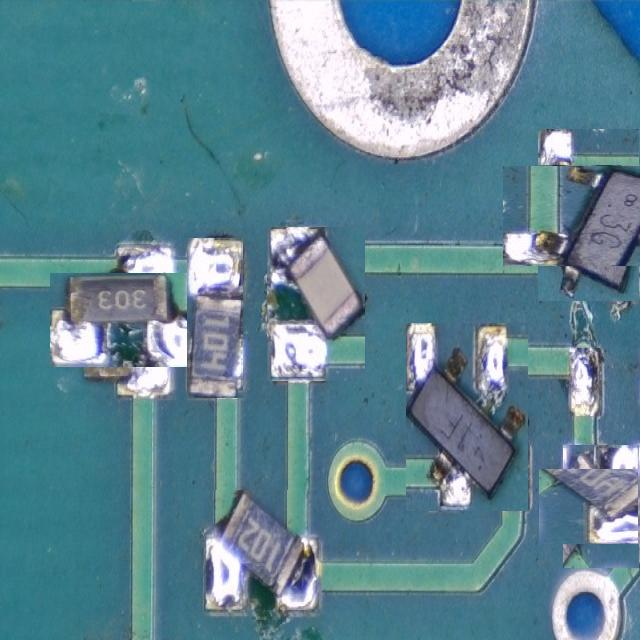Incorrect_installation: (407, 323, 527, 511), (267, 228, 364, 381), (205, 490, 320, 614), (50, 274, 202, 366), (503, 164, 640, 266), (188, 237, 242, 398), (540, 469, 639, 544)
